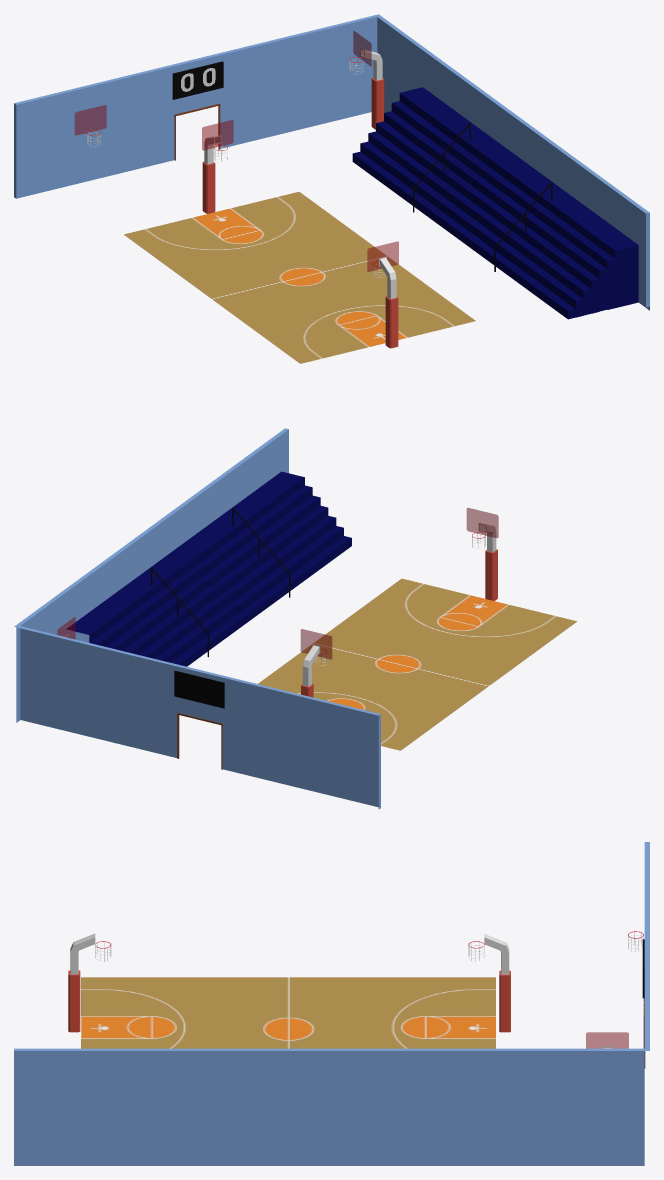
Rendered from Room_Gym.fbx.
3 views of the same model, one above another, from view 1: azimuth 30°, elevation 25°; view 2: azimuth 150°, elevation 25°; view 3: azimuth 270°, elevation 25° (orthographic). The views are drawn at different scales.
Parts seen in each view (by area): view 1: Gym; view 2: Gym; view 3: Gym.
Boxes of the visible parts, x1,y1,x2,y2 form: Gym: [14, 14, 649, 363]; Gym: [14, 428, 576, 809]; Gym: [14, 842, 649, 1165].
Bounding box in the file's own units: 9317 × 2394 × 11994.
Materials: 11 (1 with a texture image).
